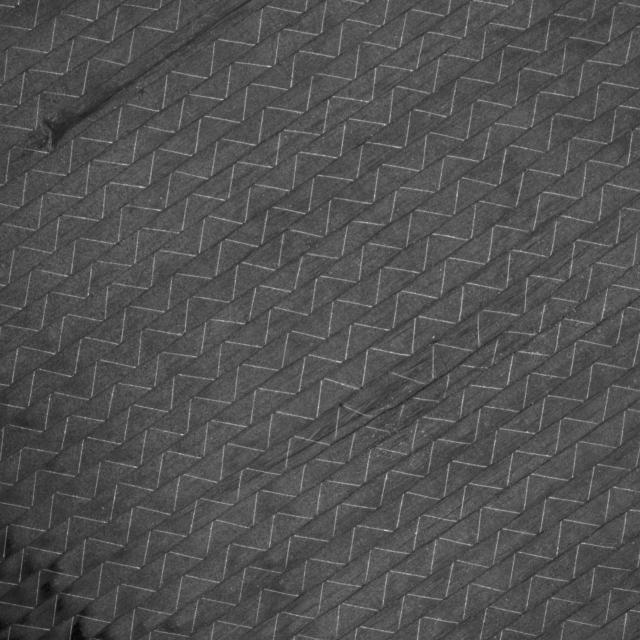carbon-fibre-defect: (11, 0, 272, 173)
